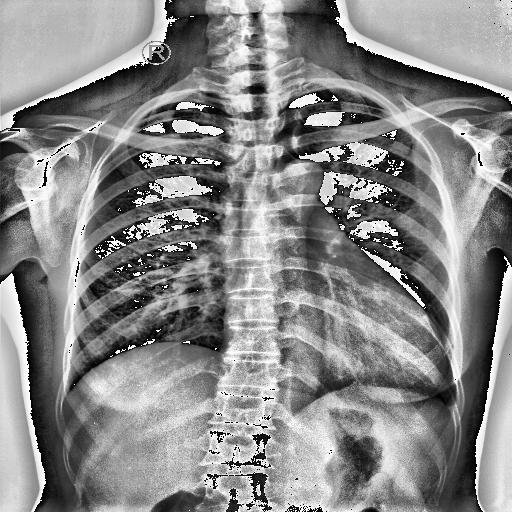0- Aortic enlargement: (274, 159, 326, 205)
3- Cardiomegaly: (222, 285, 448, 390), (223, 310, 448, 402), (222, 304, 444, 386)
